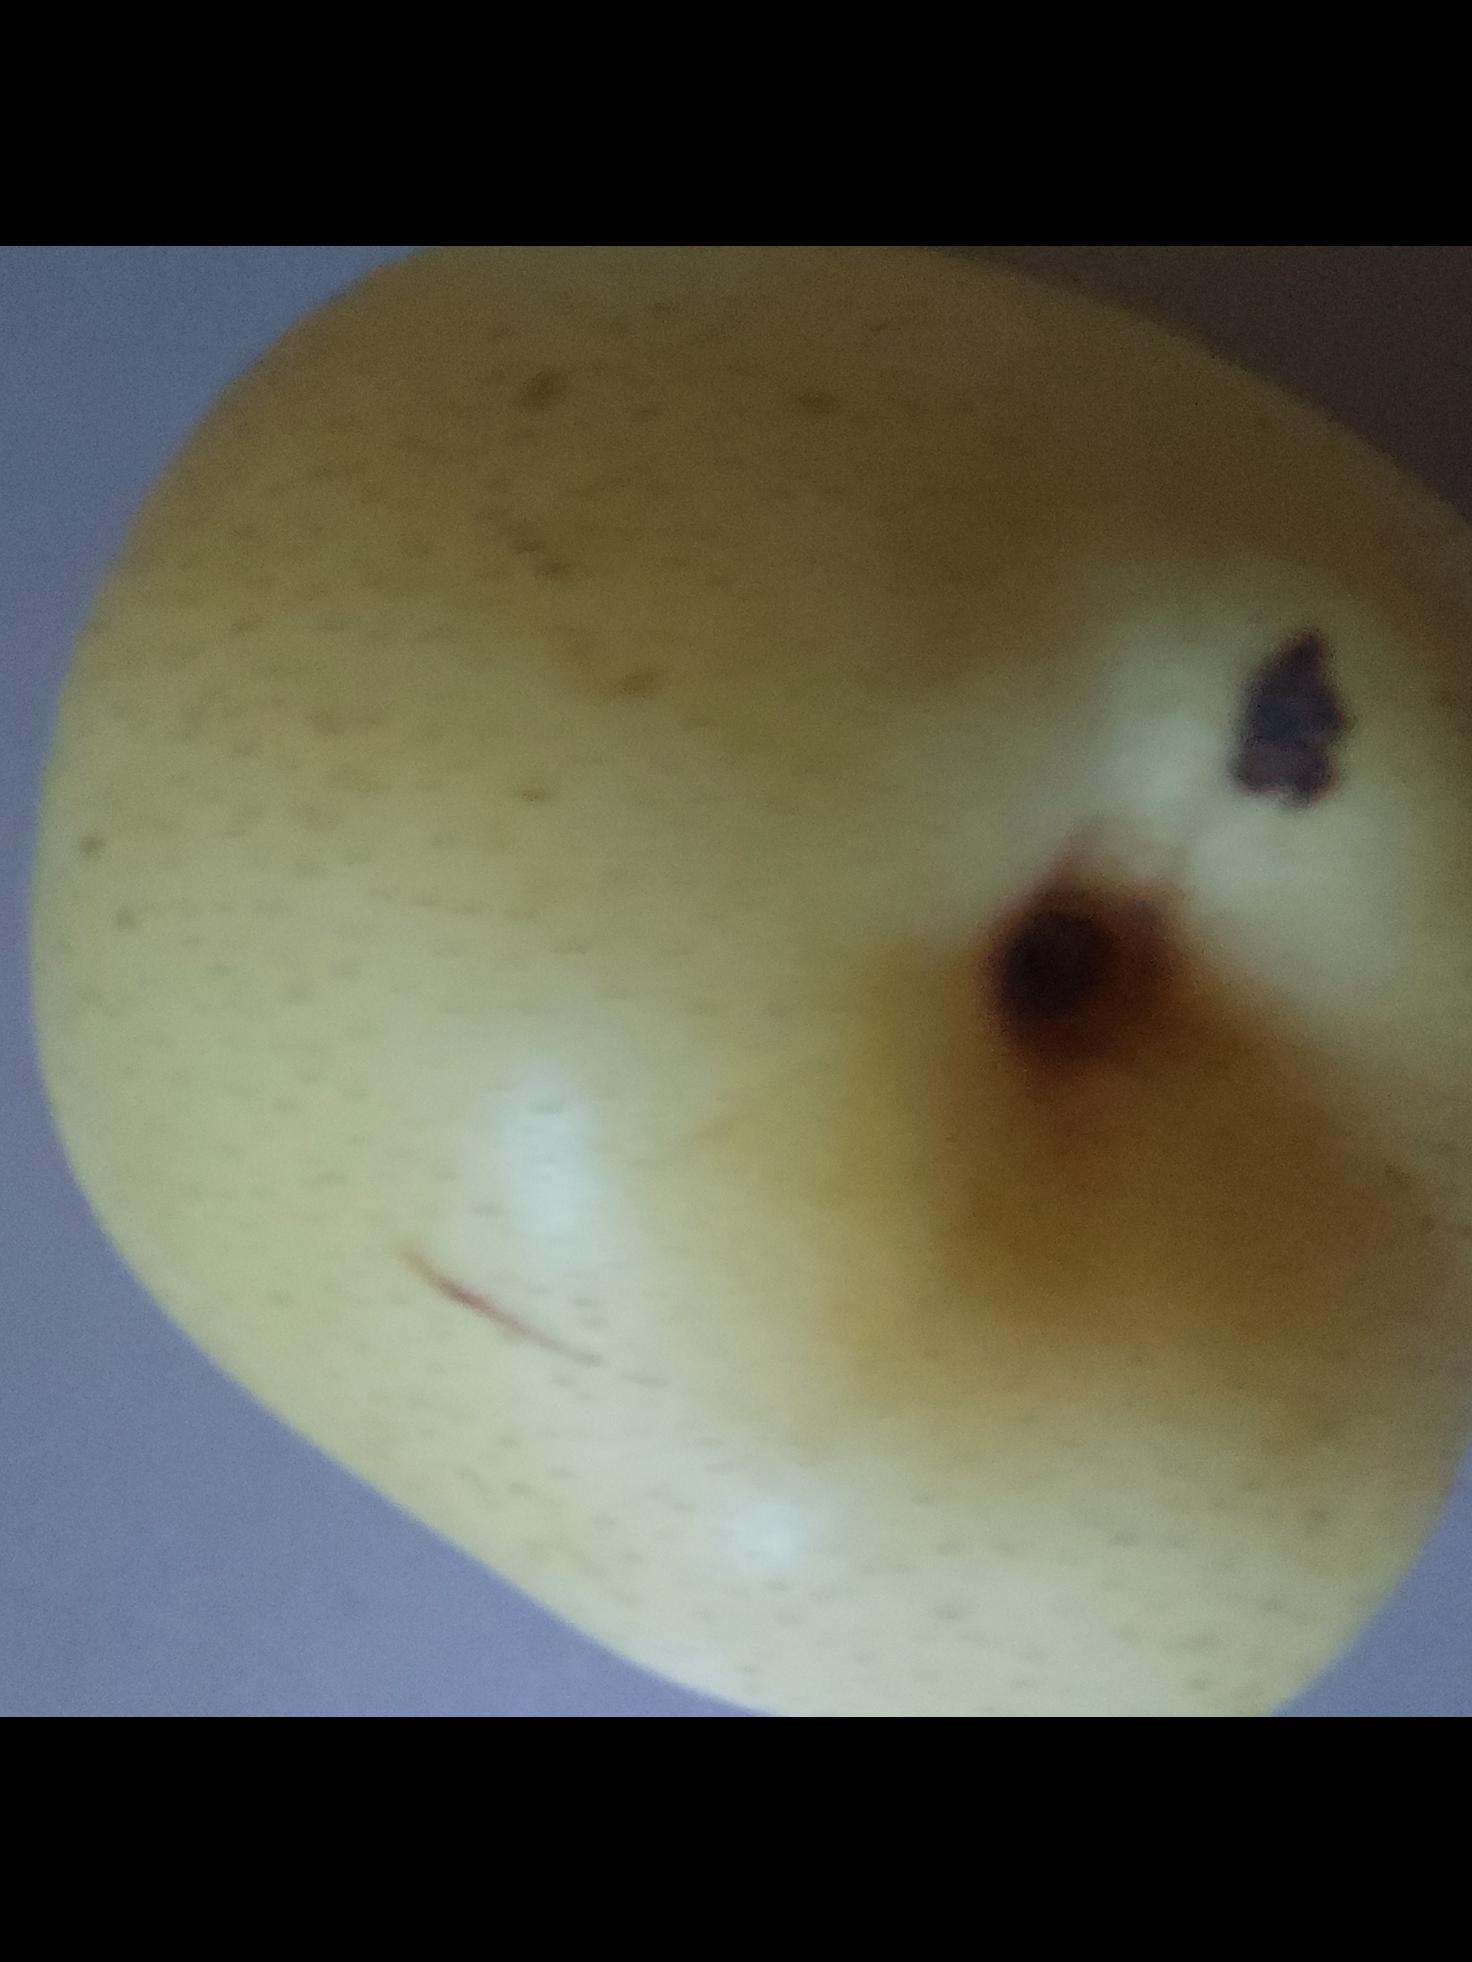Good Pear: (12, 244, 1472, 1718)
